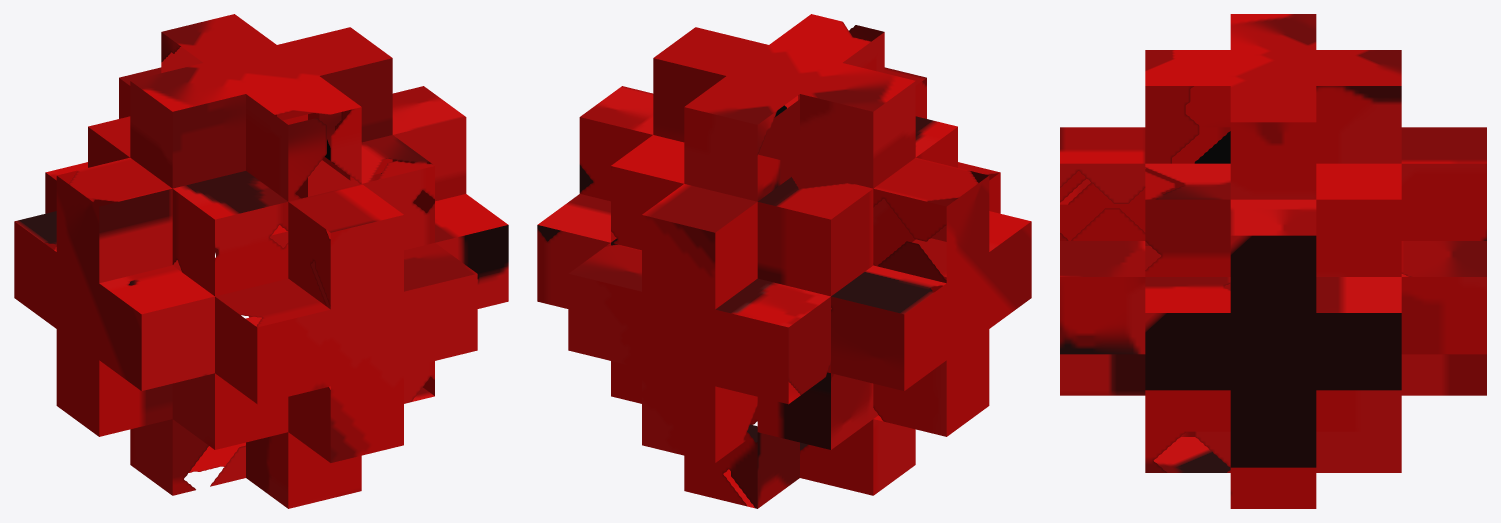
3 renders of one model, left to right at view 1: azimuth 30°, elevation 25°; view 2: azimuth 150°, elevation 25°; view 3: azimuth 270°, elevation 25°, orthographic.
Parts seen in each view (by area): view 1: part3_fire; view 2: part3_fire; view 3: part3_fire.
Boxes of the visible parts, box(x1,y1,x2,y2) form: part3_fire: box(14, 14, 508, 508); part3_fire: box(537, 14, 1031, 508); part3_fire: box(1060, 14, 1486, 508).
Bounding box in the file's own units: 0.5 × 0.5 × 0.5.
